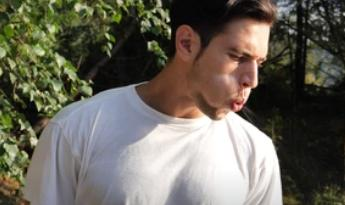Spitting: (130, 0, 303, 134)
